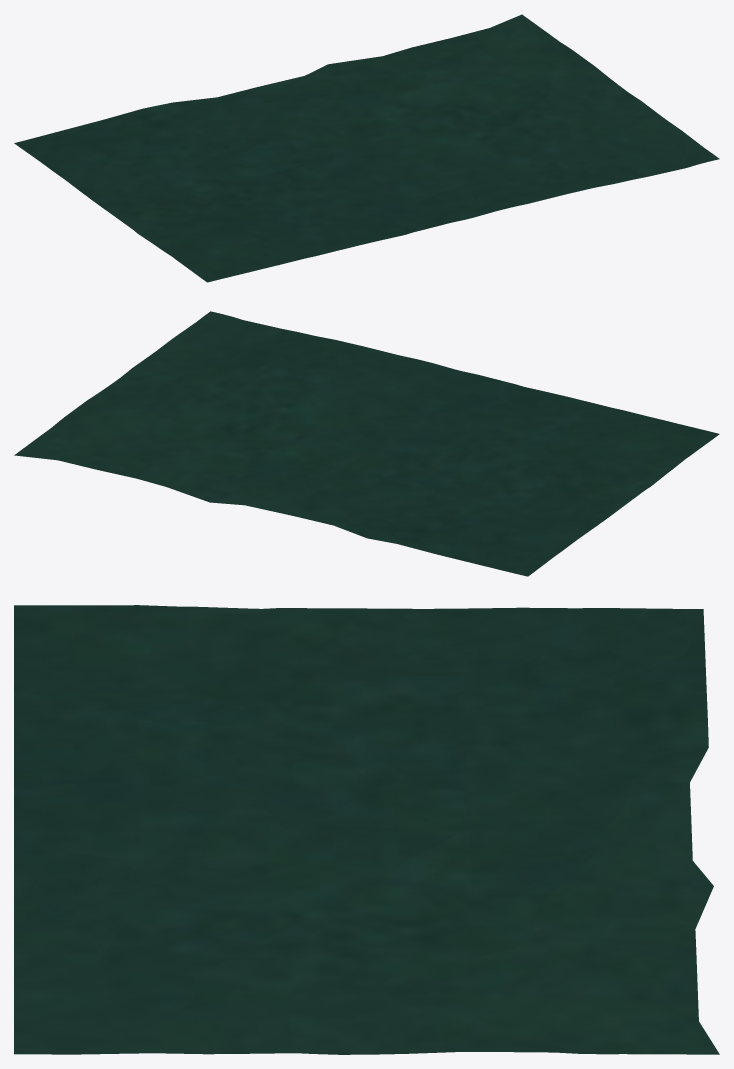
3 renders of one model, top to bottom at view 1: azimuth 30°, elevation 25°; view 2: azimuth 150°, elevation 25°; view 3: azimuth 270°, elevation 25°, orthographic. The views are drawn at different scales.
Size of the model in its own units: 52.22 by 0.4414 by 34.92.
Materials: 2 (2 with a texture image).
